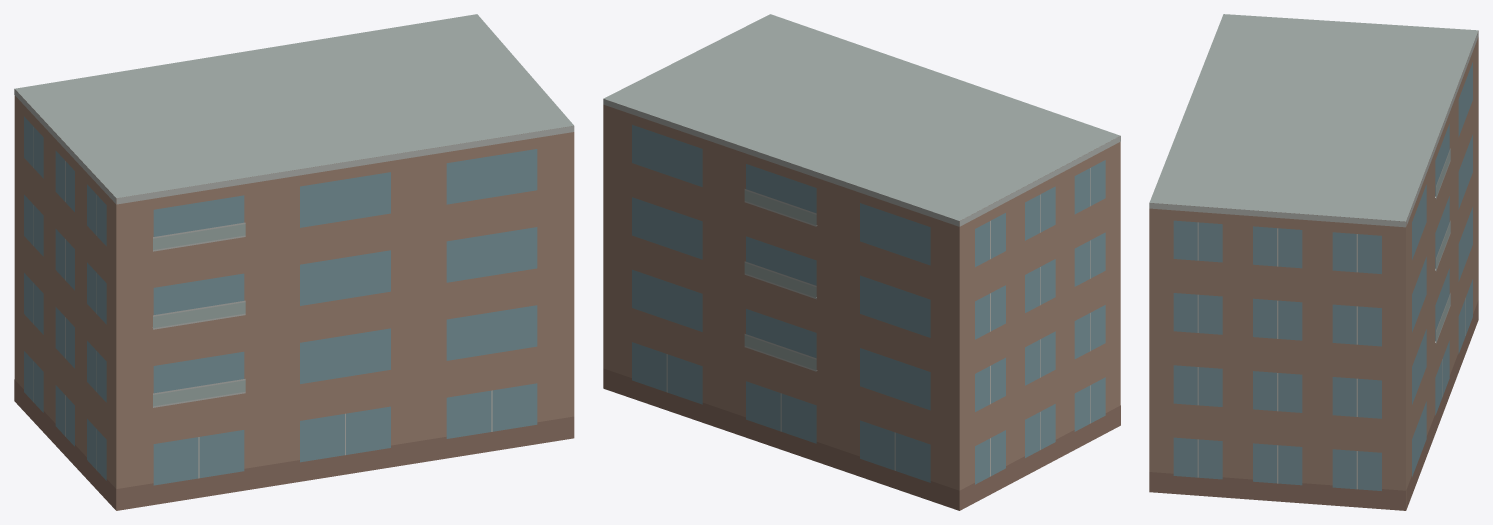
Rendered from survey-upis-32461884.glb.
3 views of the same model, side by side, from view 1: azimuth 30°, elevation 25°; view 2: azimuth 150°, elevation 25°; view 3: azimuth 270°, elevation 25° (orthographic). The views are drawn at different scales.
Parts seen in each view (by area): view 1: survey-upis-32461884.tmp; view 2: survey-upis-32461884.tmp; view 3: survey-upis-32461884.tmp.
Boxes of the visible parts, x1=… form: survey-upis-32461884.tmp: x1=14, y1=14, x2=574, y2=510; survey-upis-32461884.tmp: x1=603, y1=14, x2=1120, y2=510; survey-upis-32461884.tmp: x1=1149, y1=14, x2=1478, y2=510.
Size of the model in its own units: 18.78 by 12.2 by 12.59.
